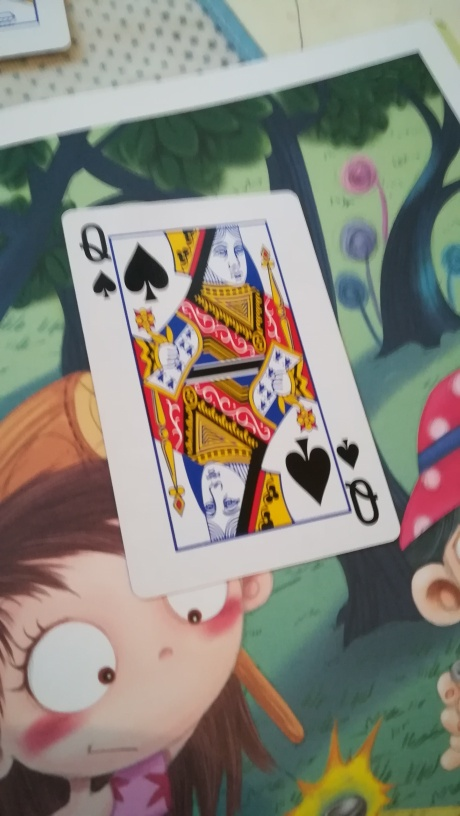ht q: (58, 185, 404, 598)
